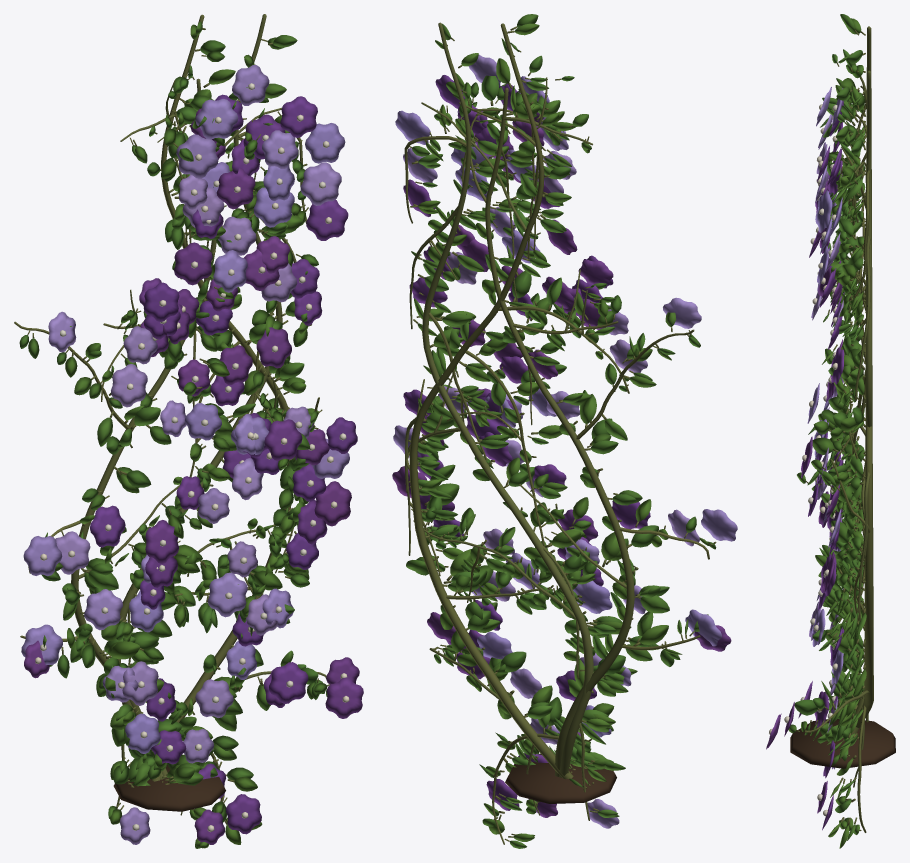
File: climber_clematis_30.glb
3 renders of one model, left to right at view 1: azimuth 30°, elevation 25°; view 2: azimuth 150°, elevation 25°; view 3: azimuth 270°, elevation 25°, orthographic. The views are drawn at different scales.
Parts seen in each view (by area): view 1: Sammel Pflanze, Sammel Putz; view 2: Sammel Pflanze, Sammel Putz; view 3: Sammel Pflanze, Sammel Putz.
Boxes of the visible parts, bbox=[...] form: Sammel Pflanze: bbox=[19, 21, 363, 848]; Sammel Putz: bbox=[14, 14, 329, 824]; Sammel Pflanze: bbox=[392, 14, 737, 848]; Sammel Putz: bbox=[404, 22, 716, 844]; Sammel Pflanze: bbox=[766, 14, 866, 848]; Sammel Putz: bbox=[790, 26, 895, 832].
Bounding box in the file's own units: 1.17 × 2.77 × 0.399.
